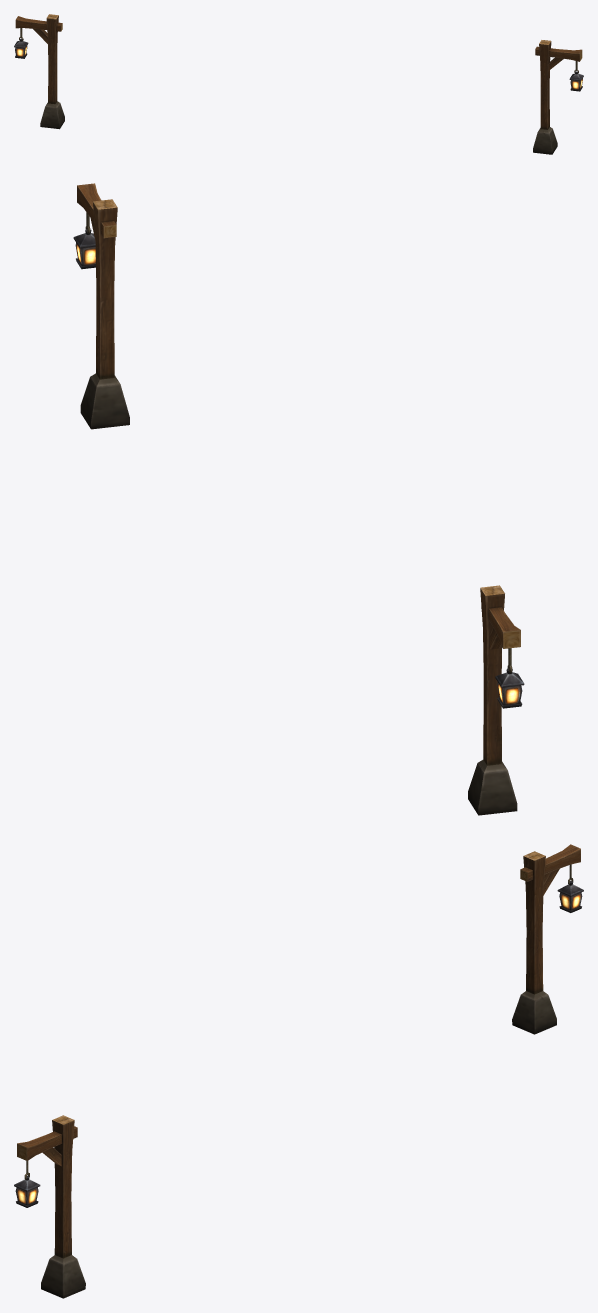
File: Lanterns.fbx
3 renders of one model, top to bottom at view 1: azimuth 30°, elevation 25°; view 2: azimuth 150°, elevation 25°; view 3: azimuth 270°, elevation 25°, orthographic. The views are drawn at different scales.
Visible parts, largest first — view 1: Lantern1_1, Lantern1; view 2: Lantern1, Lantern1_1; view 3: Lantern1_1, Lantern1.
Part boxes in pixels (<box>): Lantern1_1: <box>14,14,64,129</box>; Lantern1: <box>533,40,583,154</box>; Lantern1: <box>73,183,129,429</box>; Lantern1_1: <box>468,585,524,815</box>; Lantern1_1: <box>512,844,583,1034</box>; Lantern1: <box>14,1115,85,1298</box>.
Size of the model in its own units: 1450 by 374 by 1142.
1 material, 1 textured.
